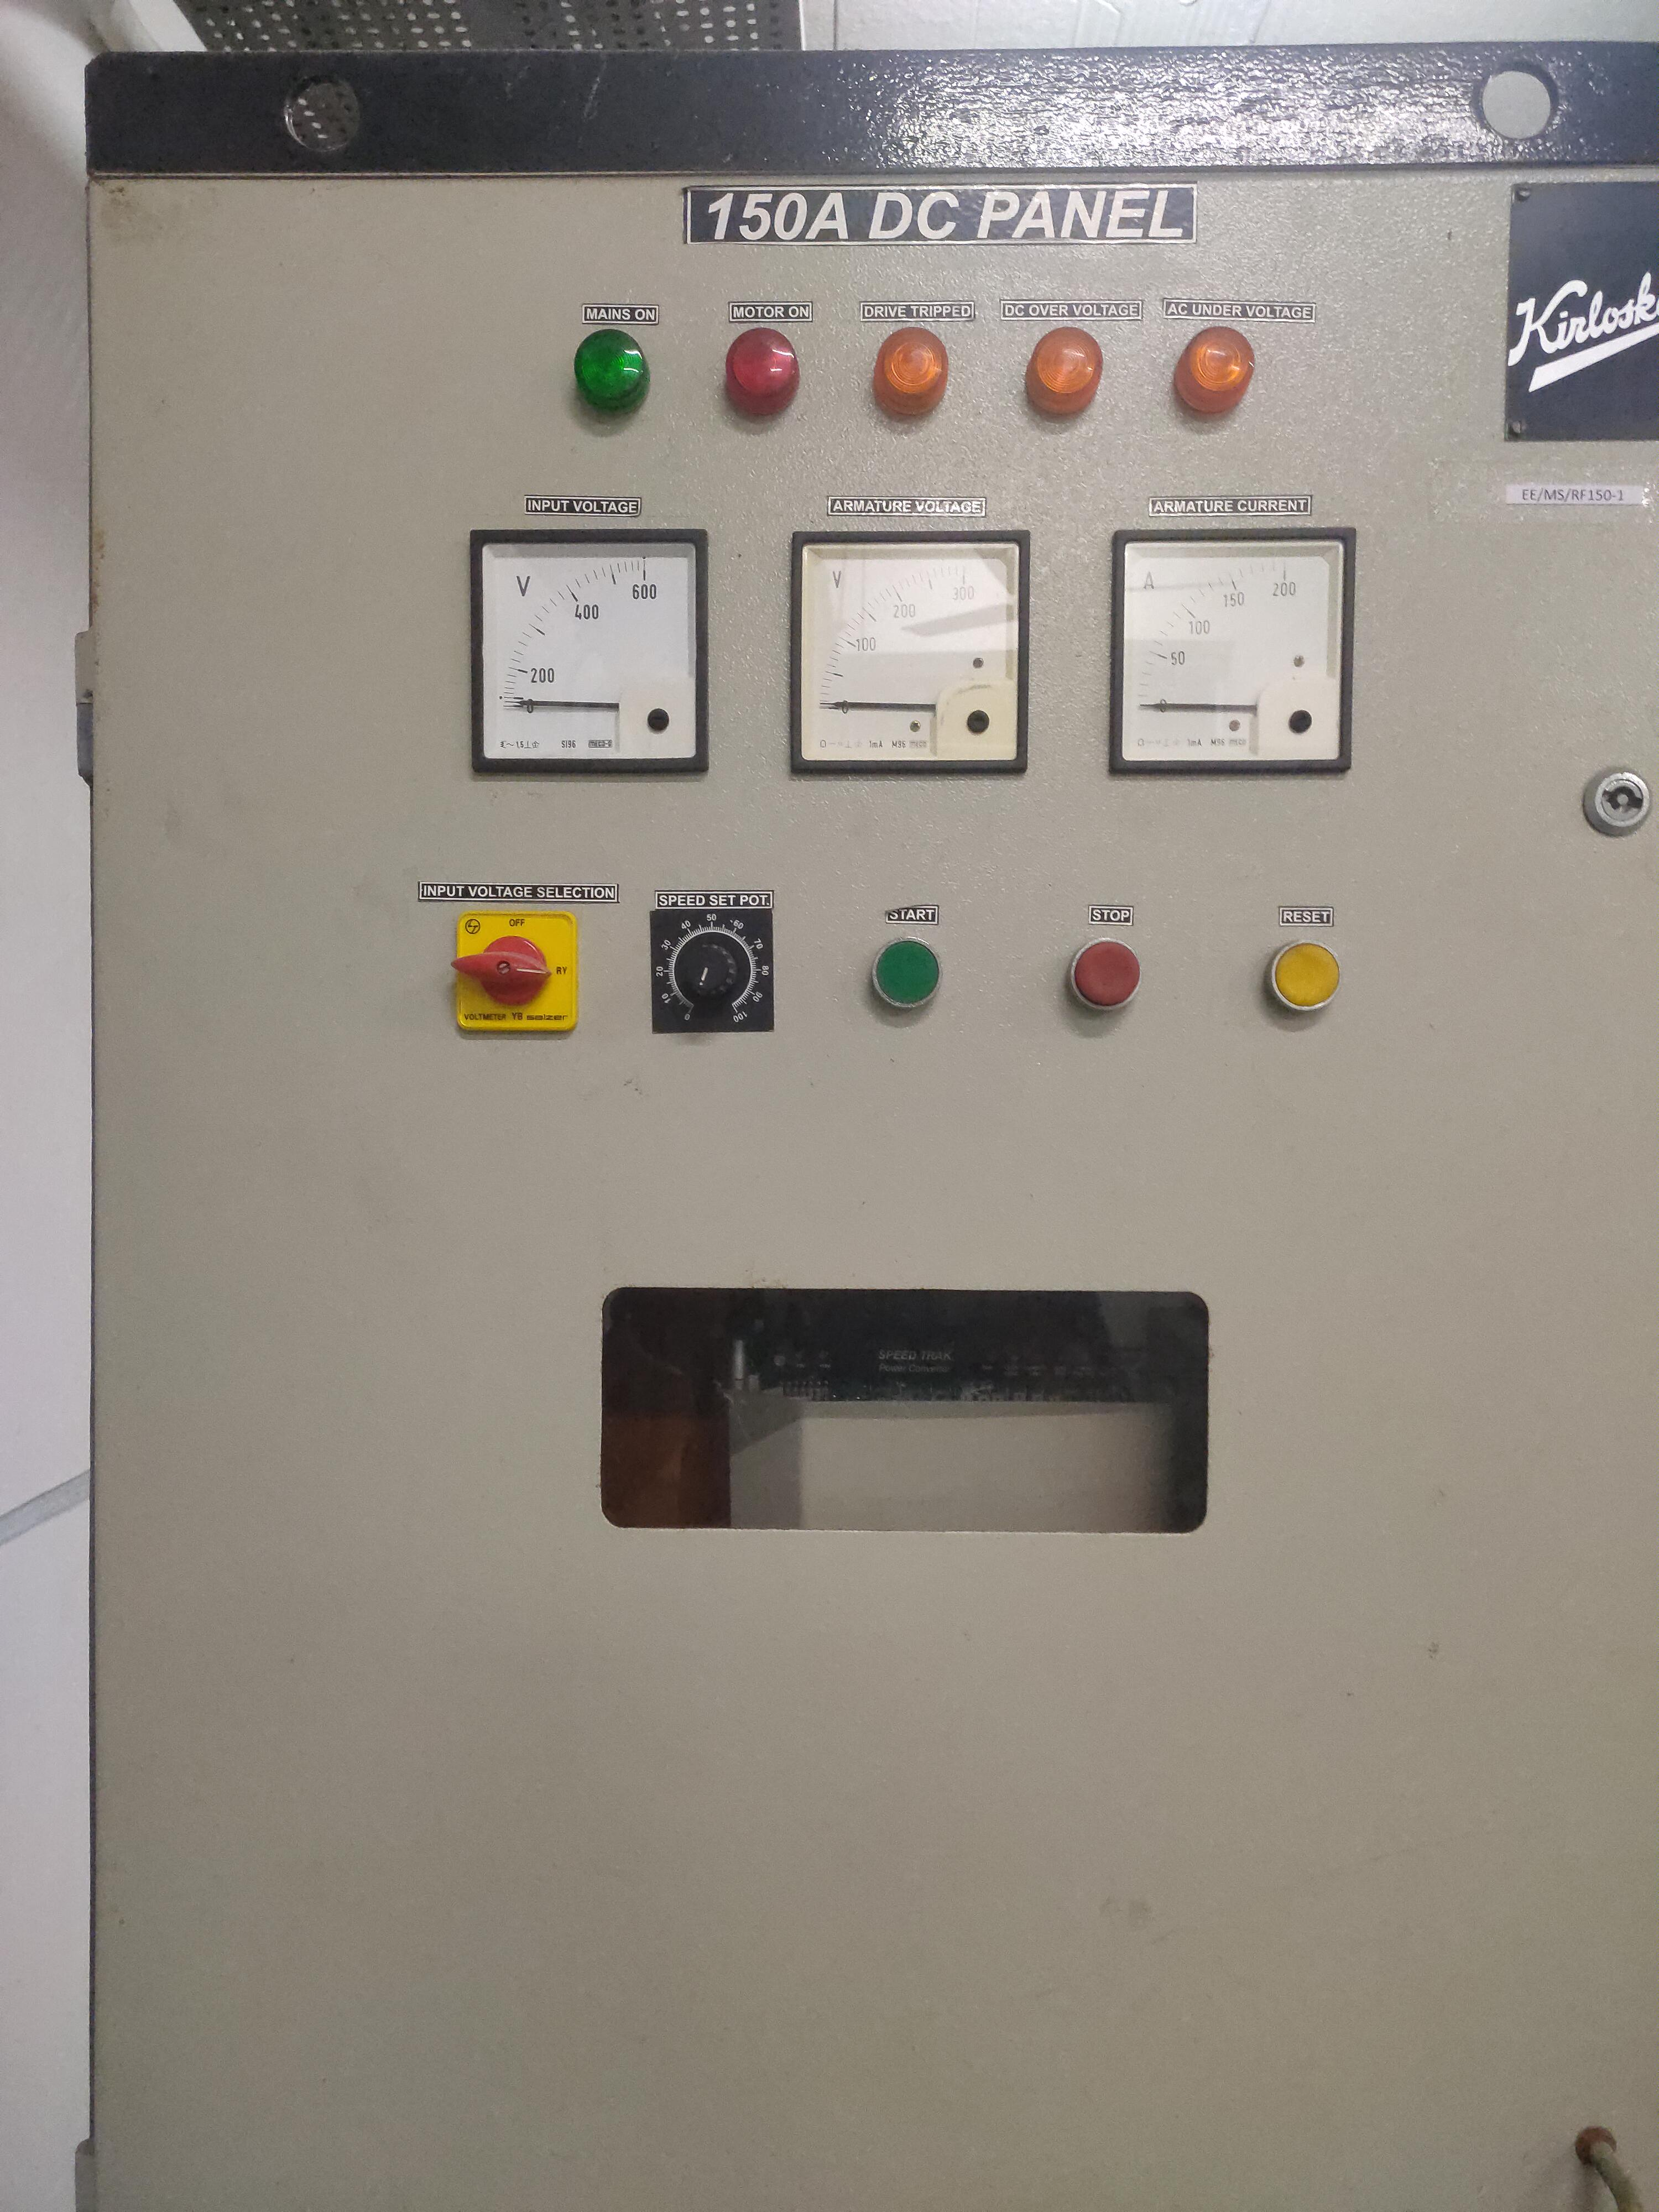Light Indications: (535, 286, 1274, 467)
